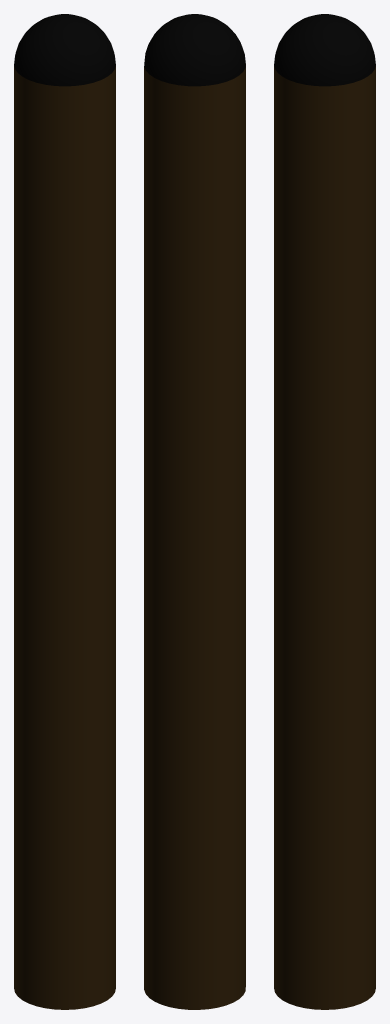
The model's file is torch_ground.glb.
3 views of the same model, side by side, from view 1: azimuth 90°, elevation 25°; view 2: azimuth 150°, elevation 25°; view 3: azimuth 270°, elevation 25° (orthographic).
Parts seen in each view (by area): view 1: Cylinder, Sphere; view 2: Cylinder, Sphere; view 3: Cylinder, Sphere.
Boxes of the visible parts, bbox=[...] form: Cylinder: bbox=[14, 65, 115, 1009]; Sphere: bbox=[14, 14, 115, 86]; Cylinder: bbox=[144, 64, 245, 1009]; Sphere: bbox=[144, 14, 245, 86]; Cylinder: bbox=[274, 65, 375, 1009]; Sphere: bbox=[274, 14, 375, 86].
Bounding box in the file's own units: 0.15 × 1.58 × 0.15.
